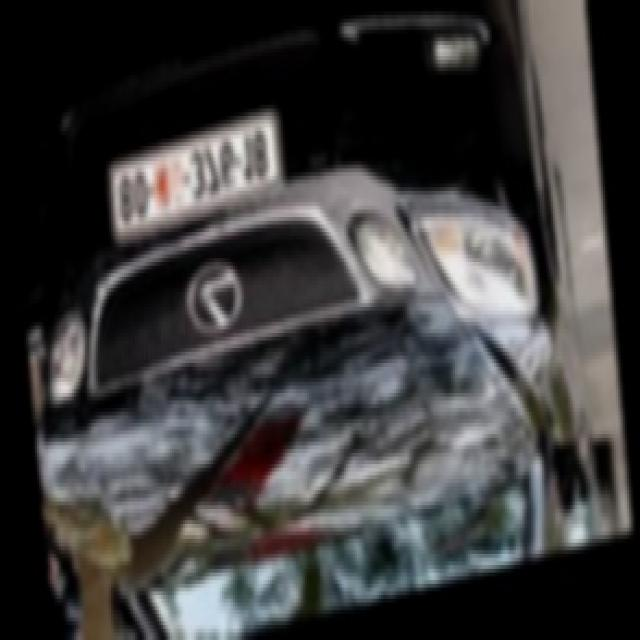bien_ngoai_giao: (106, 117, 279, 224)
